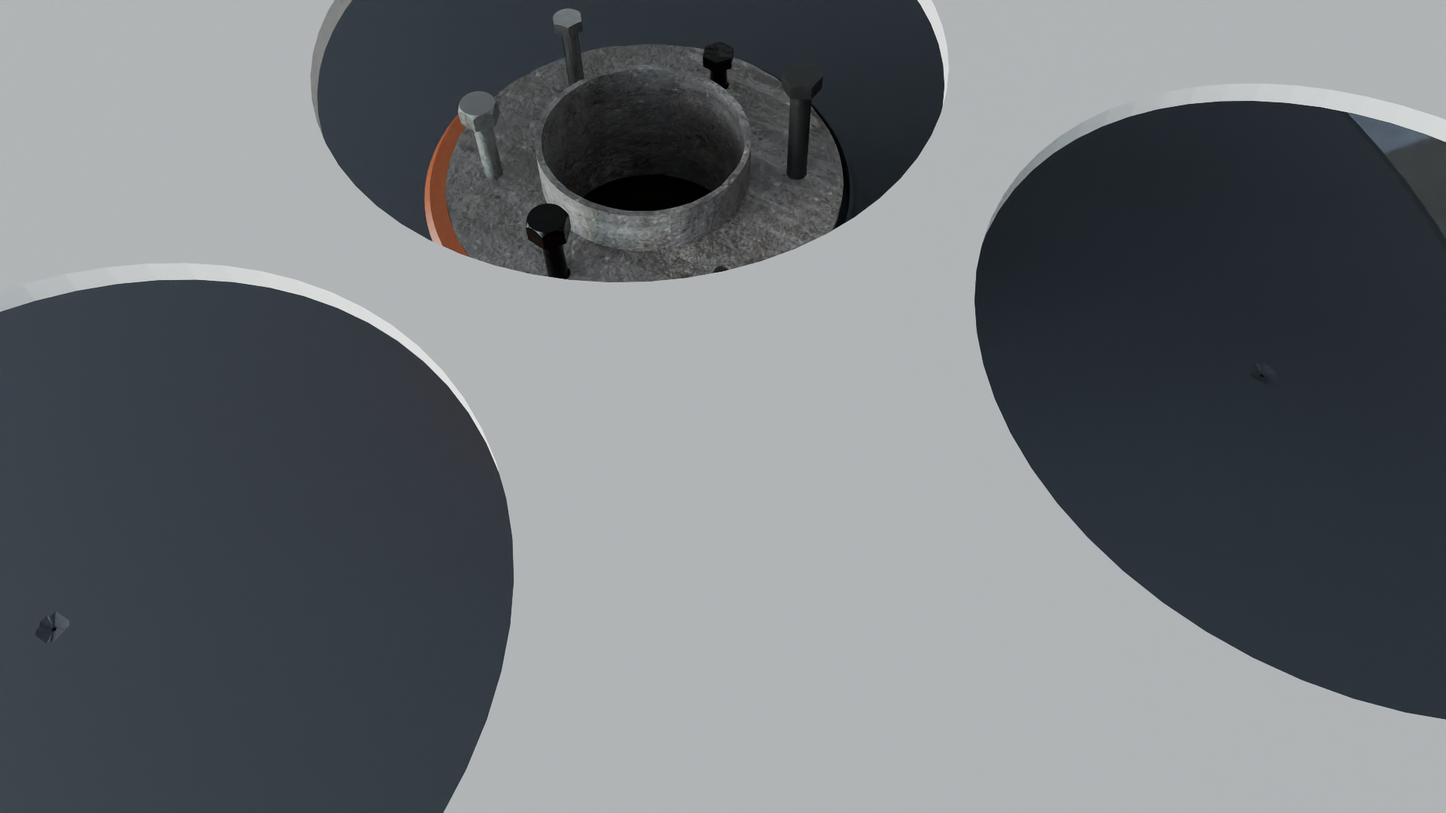bolt: (526, 203, 569, 238), (458, 91, 497, 120), (782, 63, 823, 89), (703, 42, 734, 63), (553, 8, 581, 28)
